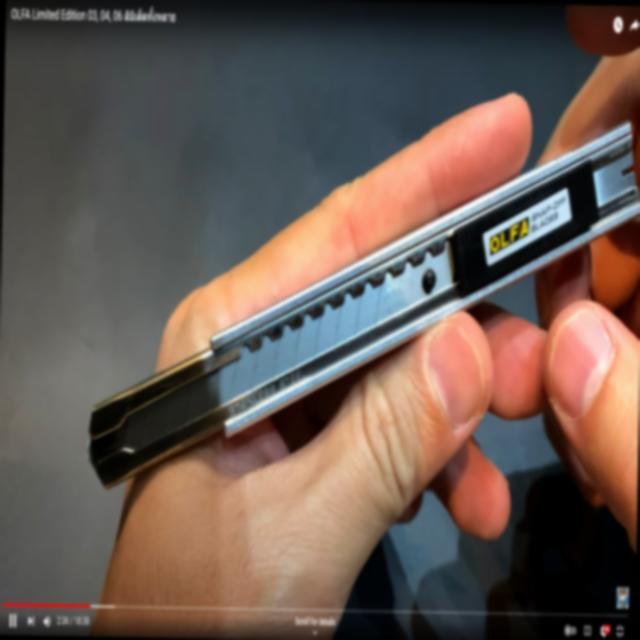cutter: (47, 59, 640, 579)
